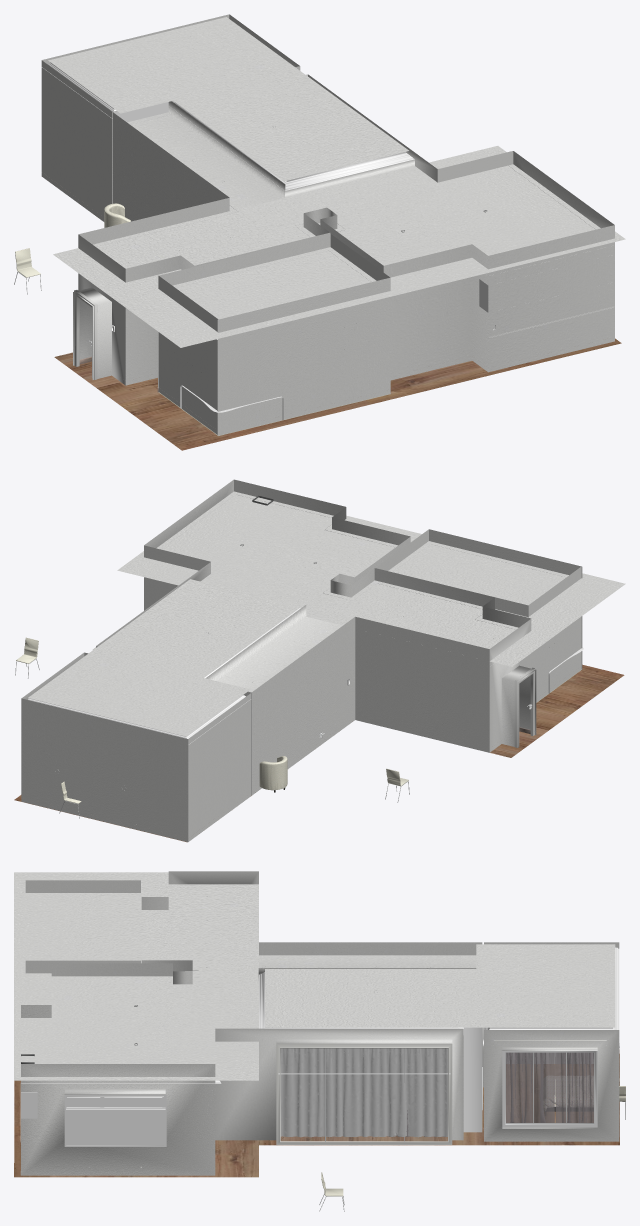
Rendered from home2.glb.
3 views of the same model, one above another, from view 1: azimuth 30°, elevation 25°; view 2: azimuth 150°, elevation 25°; view 3: azimuth 270°, elevation 25° (orthographic). The views are drawn at different scales.
Parts seen in each view (by area): view 1: i13AP Ceiling.Shape_Ceiling_0, i13AP Floor.Shape_floor_0, i13AP Hanging Lights.Shape_Plastic_0, i13AP Large Chair.Shape_chair_0, i13AP Wall 8.Shape_black_032wood_0; view 2: i13AP Ceiling.Shape_Ceiling_0, i13AP Floor.Shape_floor_0, i13AP Large Chair.Shape_chair_0, i13AP Hanging Lights.Shape_Plastic_0, i13AP Wall 8.Shape_black_032wood_0; view 3: i13AP Ceiling.Shape_Ceiling_0, i13AP Hanging Lights.Shape_Plastic_0, i13AP Hanging Lights.Shape_glass_0, i13AP Floor.Shape_floor_0, i13AP Curtains.Shape_Curtains_0, i13AP Bed Quilt.Shape_fabric_0, i13AP Hanging Lights.Shape_MainLamp_0.
Boxes of the visible parts, x1,y1,x2,y2 form: i13AP Ceiling.Shape_Ceiling_0: (41, 14, 625, 435); i13AP Floor.Shape_floor_0: (54, 338, 621, 450); i13AP Hanging Lights.Shape_Plastic_0: (42, 62, 594, 419); i13AP Large Chair.Shape_chair_0: (15, 203, 130, 277); i13AP Wall 8.Shape_black_032wood_0: (74, 290, 97, 379); i13AP Ceiling.Shape_Ceiling_0: (21, 479, 625, 842); i13AP Floor.Shape_floor_0: (14, 664, 624, 842); i13AP Large Chair.Shape_chair_0: (16, 637, 408, 803); i13AP Hanging Lights.Shape_Plastic_0: (27, 495, 583, 795); i13AP Wall 8.Shape_black_032wood_0: (514, 667, 535, 747); i13AP Ceiling.Shape_Ceiling_0: (14, 871, 619, 1175); i13AP Hanging Lights.Shape_Plastic_0: (21, 896, 619, 1168); i13AP Hanging Lights.Shape_glass_0: (281, 1048, 593, 1141); i13AP Floor.Shape_floor_0: (14, 1054, 619, 1177); i13AP Curtains.Shape_Curtains_0: (387, 1052, 593, 1136); i13AP Bed Quilt.Shape_fabric_0: (543, 1076, 593, 1111); i13AP Hanging Lights.Shape_MainLamp_0: (278, 1043, 625, 1211).
Size of the model in its own units: 15.26 by 3.31 by 16.38.
28 materials, 28 textured.
